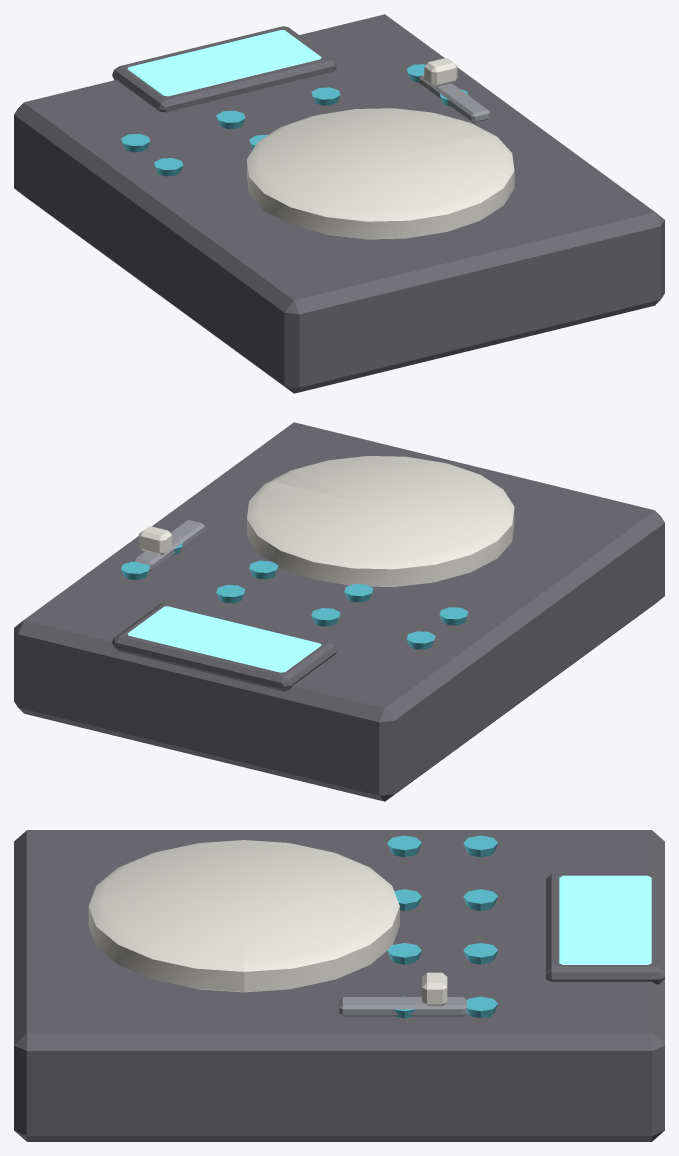
File: dj-cdj.glb
The picture shows the model from 3 angles, top to bottom: view 1: azimuth 30°, elevation 25°; view 2: azimuth 150°, elevation 25°; view 3: azimuth 270°, elevation 25°; orthographic projection. The views are drawn at different scales.
Visible parts, largest first — view 1: cdj-media-player; view 2: cdj-media-player; view 3: cdj-media-player.
Boxes of the visible parts, box(x1,y1,x2,y2) form: cdj-media-player: box(14, 14, 664, 393); cdj-media-player: box(14, 422, 664, 801); cdj-media-player: box(14, 830, 664, 1141).
Bounding box in the file's own units: 0.32 × 0.099 × 0.41.
